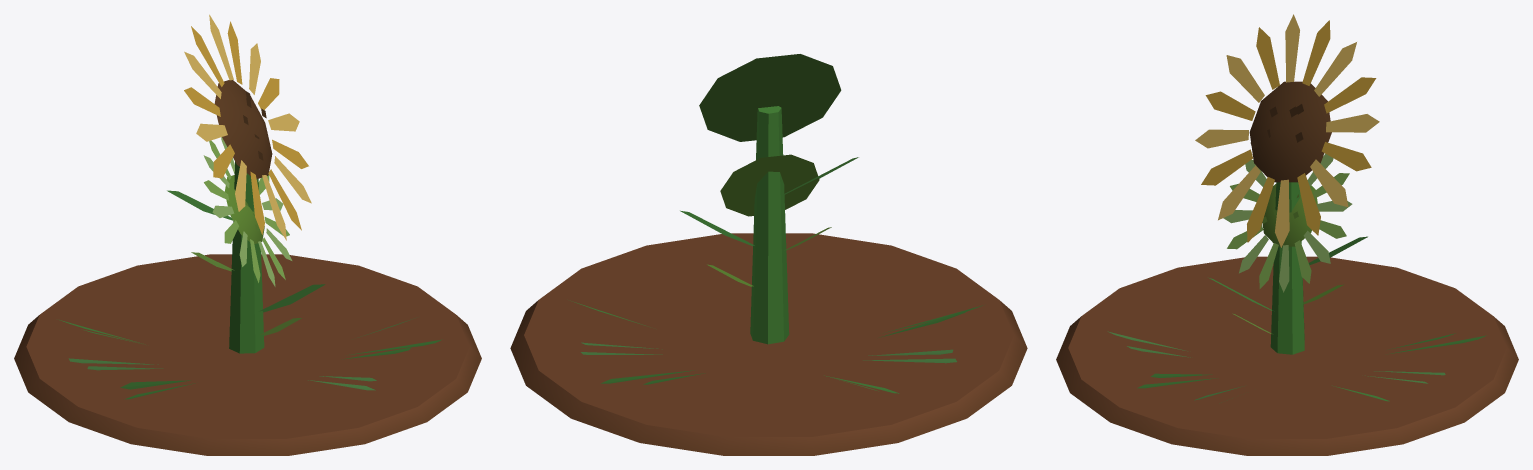
File: sunflower.glb
3 renders of one model, left to right at view 1: azimuth 30°, elevation 25°; view 2: azimuth 150°, elevation 25°; view 3: azimuth 270°, elevation 25°, orthographic. The views are drawn at different scales.
Visible parts, largest first — view 1: crop-sunflower-giant, crop-sunflower-giant-2; view 2: crop-sunflower-giant, crop-sunflower-giant-2; view 3: crop-sunflower-giant, crop-sunflower-giant-2.
Part boxes in pixels (box(x1,y1,x2,y2)): crop-sunflower-giant: box(17, 14, 478, 451); crop-sunflower-giant-2: box(14, 137, 481, 455); crop-sunflower-giant: box(513, 54, 1024, 451); crop-sunflower-giant-2: box(510, 154, 1027, 455); crop-sunflower-giant: box(1059, 14, 1515, 451); crop-sunflower-giant-2: box(1056, 153, 1518, 455).
Size of the model in its own units: 5.61 by 4.55 by 5.7.
